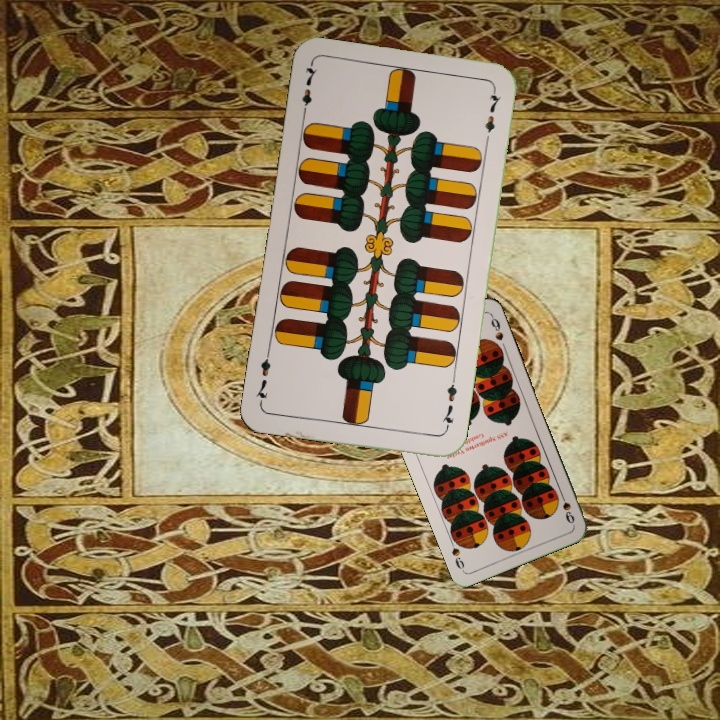E7: (439, 374, 460, 433), (298, 61, 319, 120)
S9: (556, 488, 577, 526)
